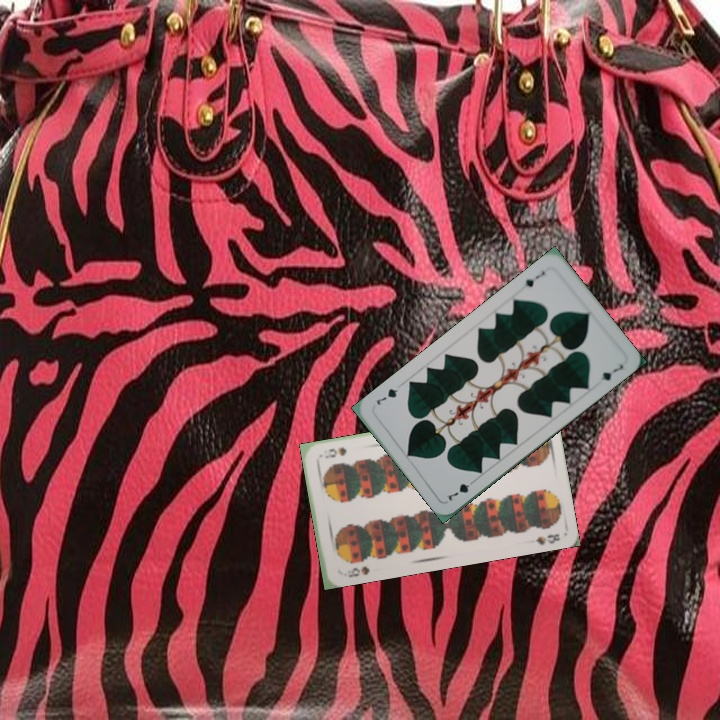G7: (444, 475, 479, 504), (517, 267, 548, 292)
S8: (343, 562, 372, 580)
